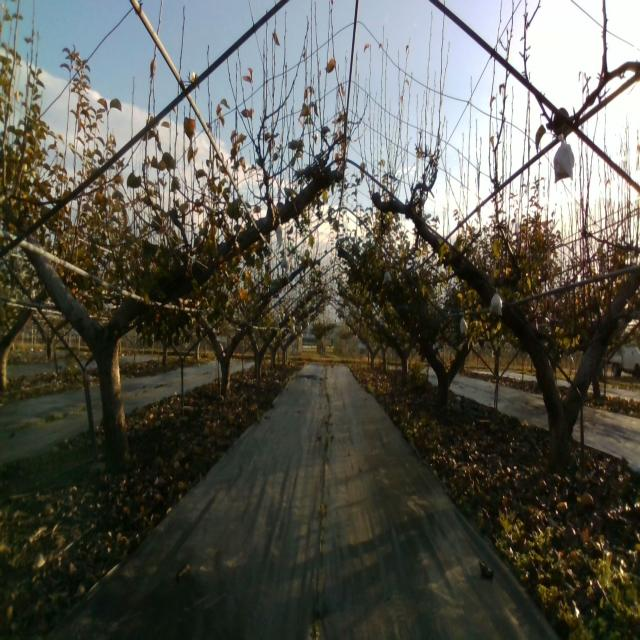pearbags: (553, 134, 575, 184), (490, 287, 502, 318)
